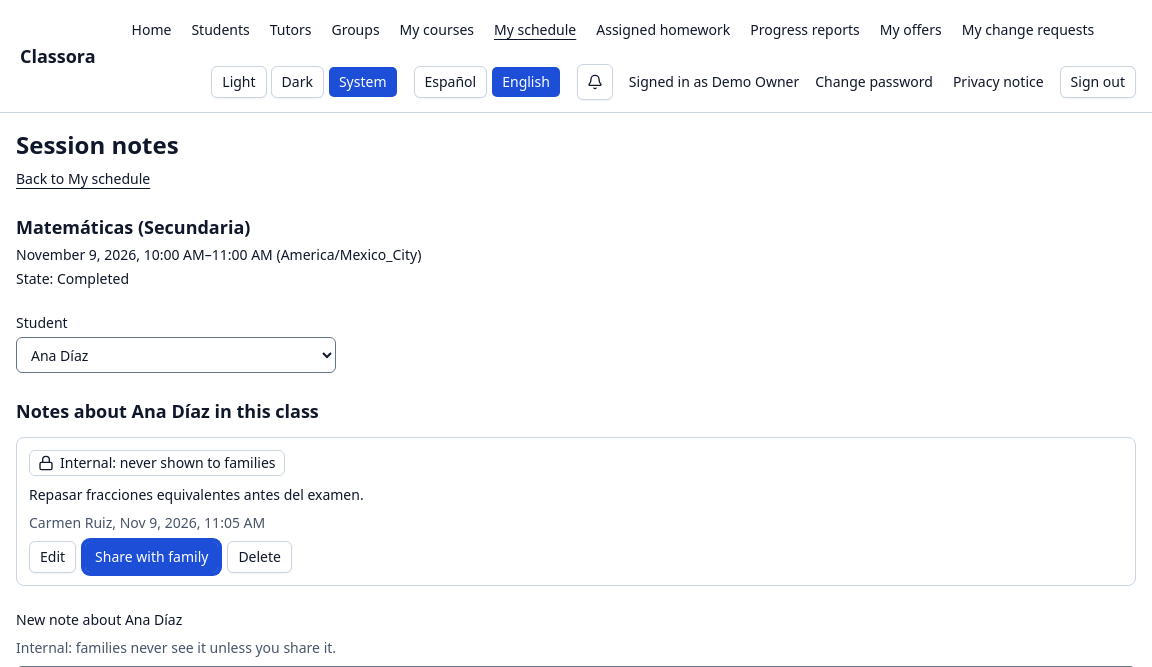
Test: focus after the dialogs and actions (#79 QA D1) › returns focus to Share with family after Escape
Click the button "Share with family".
click(152, 557)  # box [84,541,219,573]
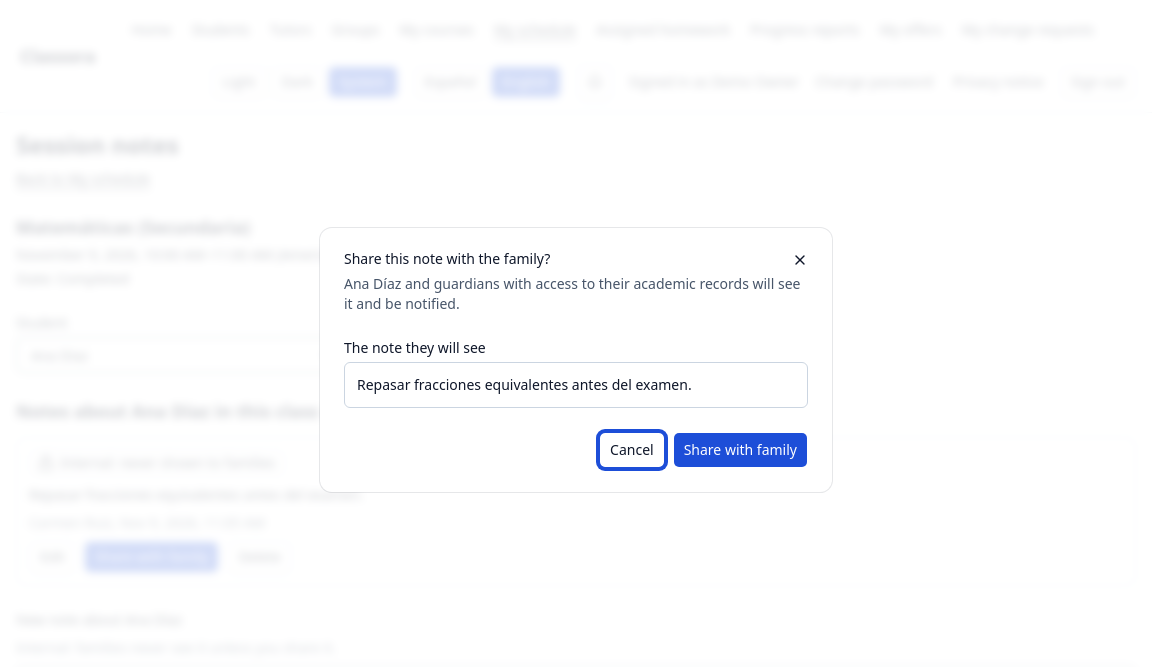
Check: the dialog is shown, box [320,228,832,492]
Press Escape in the button "Cancel", box [599,432,665,468]
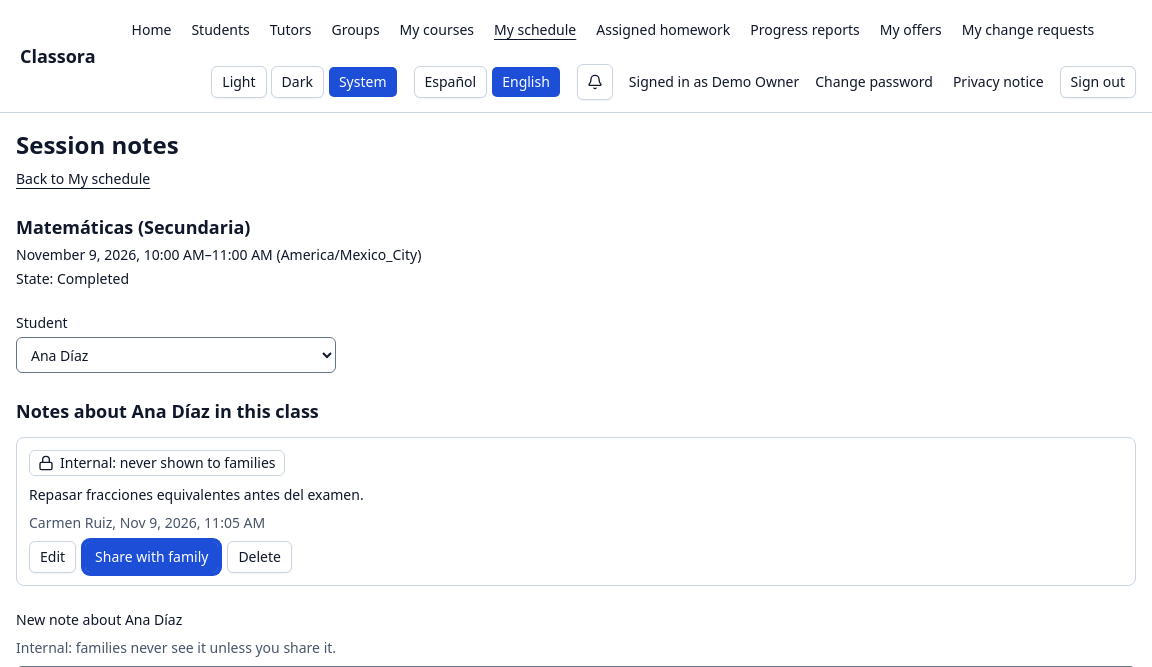
Check: the dialog is gone
